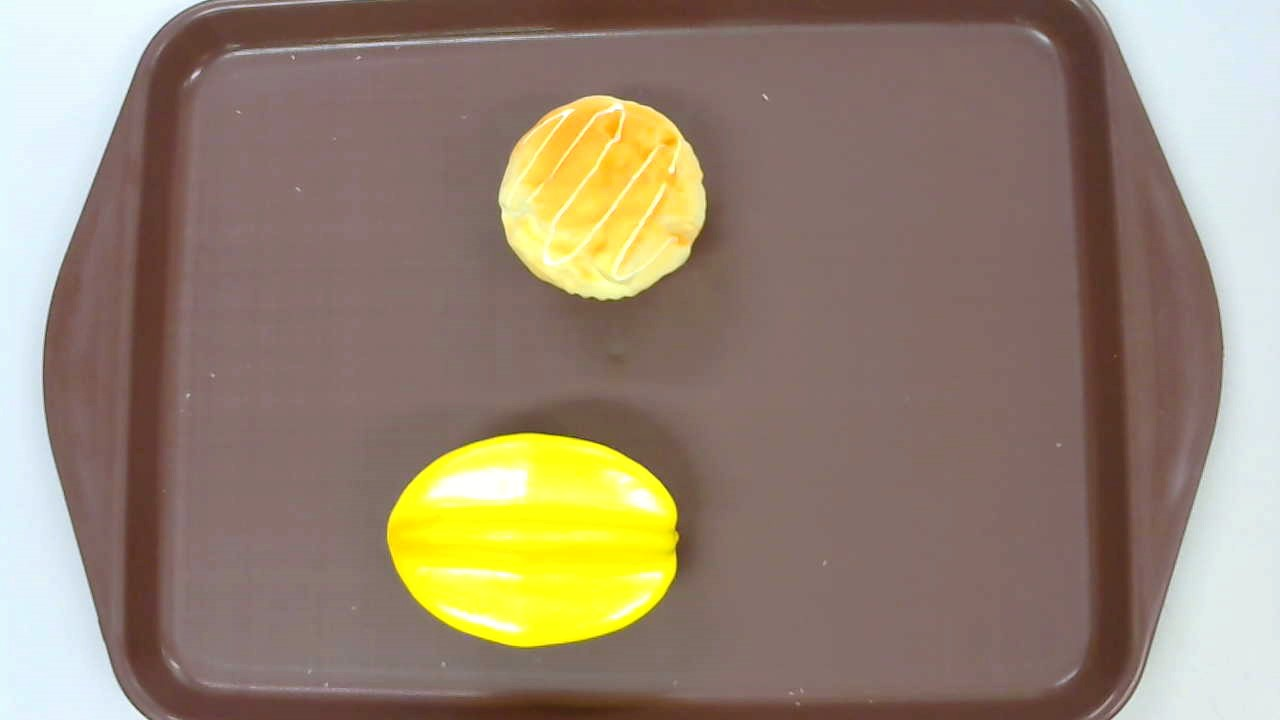cupcake: (497, 92, 709, 303)
star fruit: (385, 430, 680, 647)
